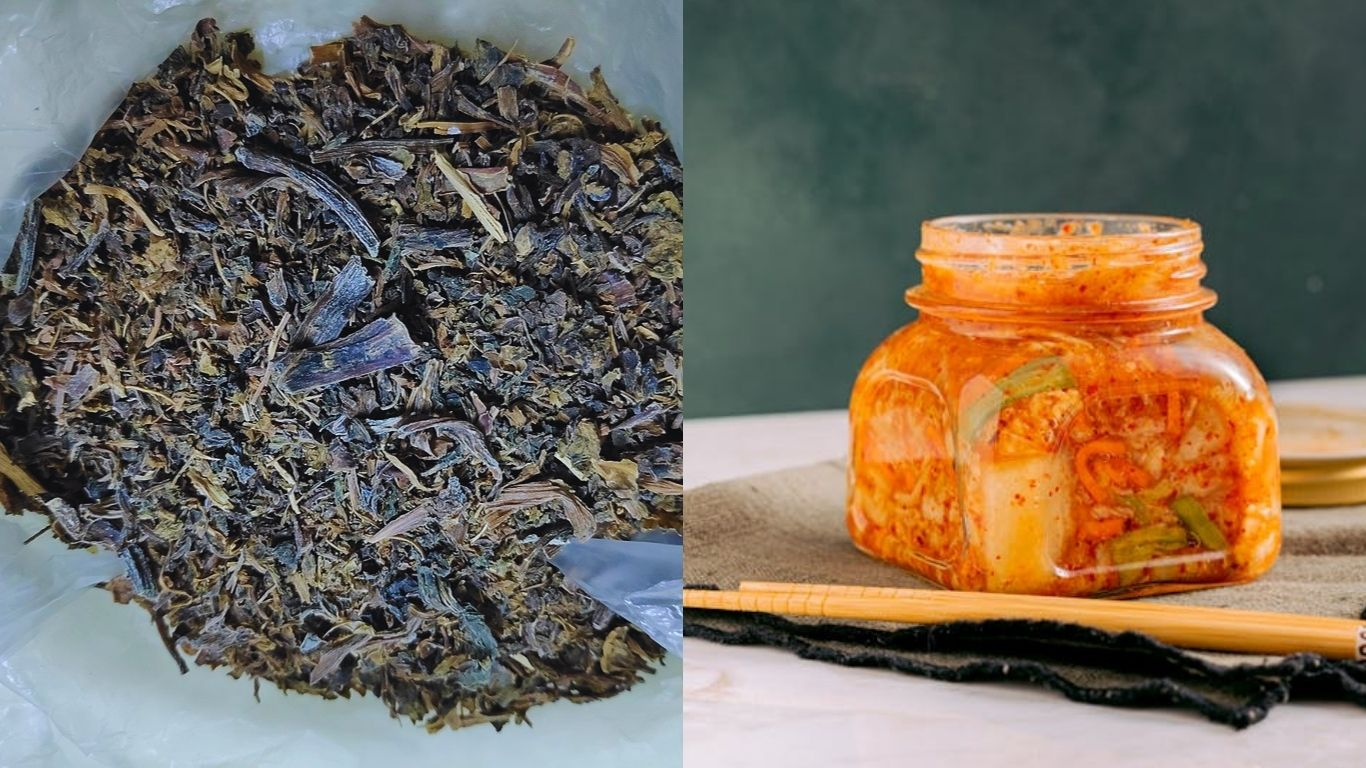gundruk: (30, 42, 662, 700)
